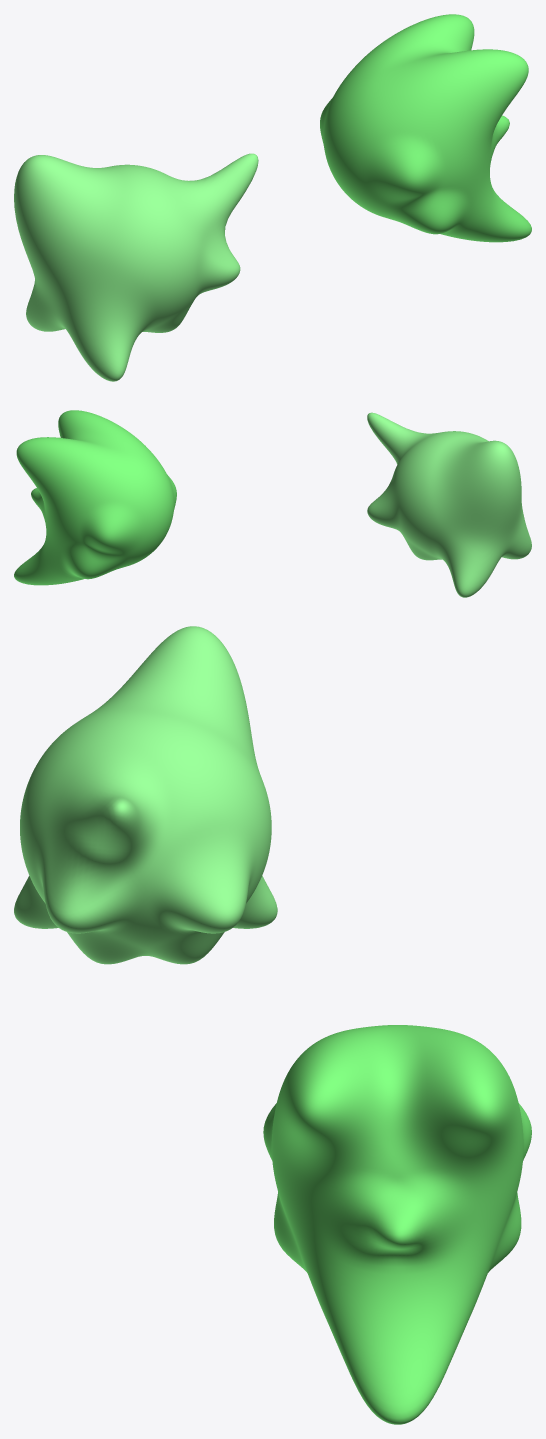
3 views of the same model, one above another, from view 1: azimuth 30°, elevation 25°; view 2: azimuth 150°, elevation 25°; view 3: azimuth 270°, elevation 25° (orthographic). The views are drawn at different scales.
Parts seen in each view (by area): view 1: #7-1/2, #7-2/2; view 2: #7-2/2, #7-1/2; view 3: #7-2/2, #7-1/2.
Part boxes in pixels (x1=…): #7-1/2: x1=14, y1=153, x2=258, y2=381; #7-2/2: x1=320, y1=14, x2=531, y2=242; #7-2/2: x1=14, y1=410, x2=176, y2=585; #7-1/2: x1=367, y1=412, x2=531, y2=597; #7-2/2: x1=263, y1=1025, x2=531, y2=1424; #7-1/2: x1=14, y1=626, x2=277, y2=964.
Size of the model in its own units: 0.7964 by 0.3447 by 0.4113.
